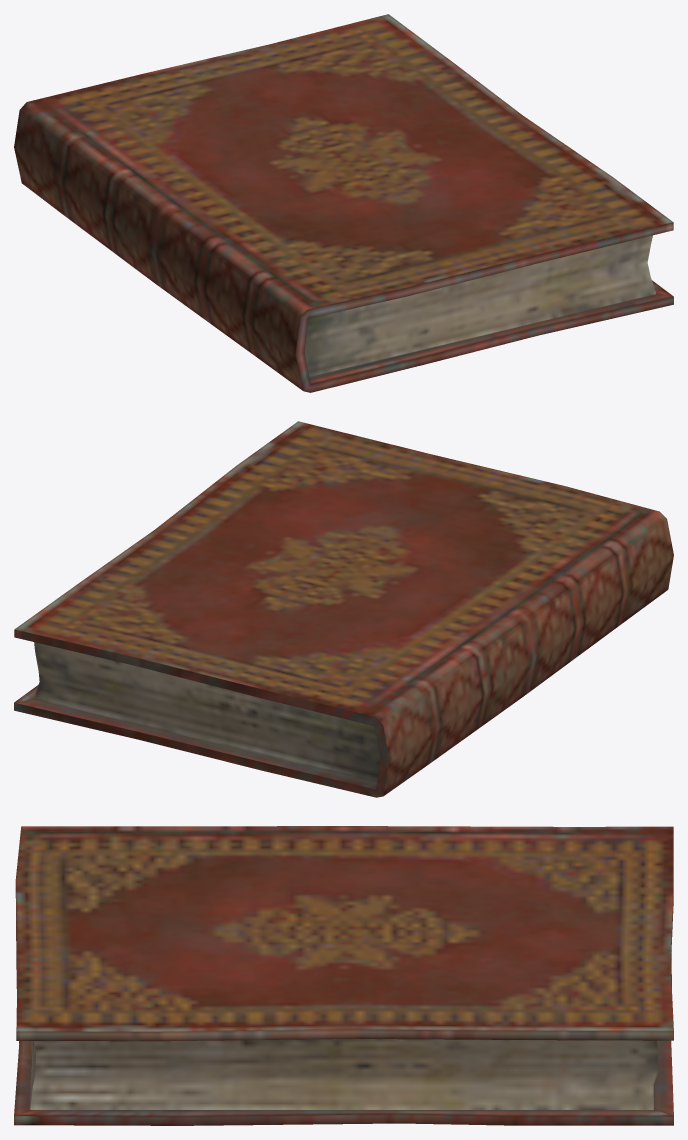
The model's file is Book.fbx.
3 renders of one model, top to bottom at view 1: azimuth 30°, elevation 25°; view 2: azimuth 150°, elevation 25°; view 3: azimuth 270°, elevation 25°, orthographic. The views are drawn at different scales.
Parts seen in each view (by area): view 1: LODGroup_1_MainMesh_1_SubMesh_1; view 2: LODGroup_1_MainMesh_1_SubMesh_1; view 3: LODGroup_1_MainMesh_1_SubMesh_1.
Part boxes in pixels (x1,y1,x2,y2): LODGroup_1_MainMesh_1_SubMesh_1: (14, 14, 673, 392); LODGroup_1_MainMesh_1_SubMesh_1: (14, 421, 673, 797); LODGroup_1_MainMesh_1_SubMesh_1: (14, 826, 673, 1125).
Size of the model in its own units: 19.39 by 4.05 by 25.31.
